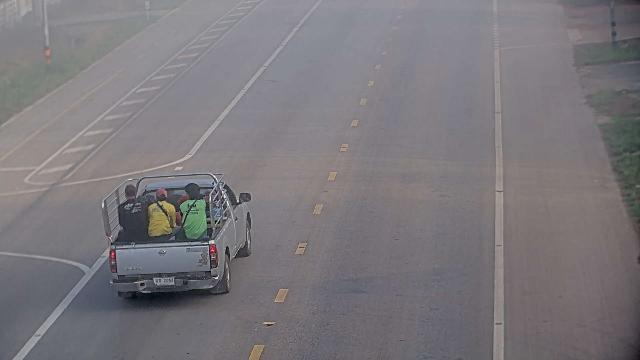pickup-truck: (100, 172, 252, 299)
